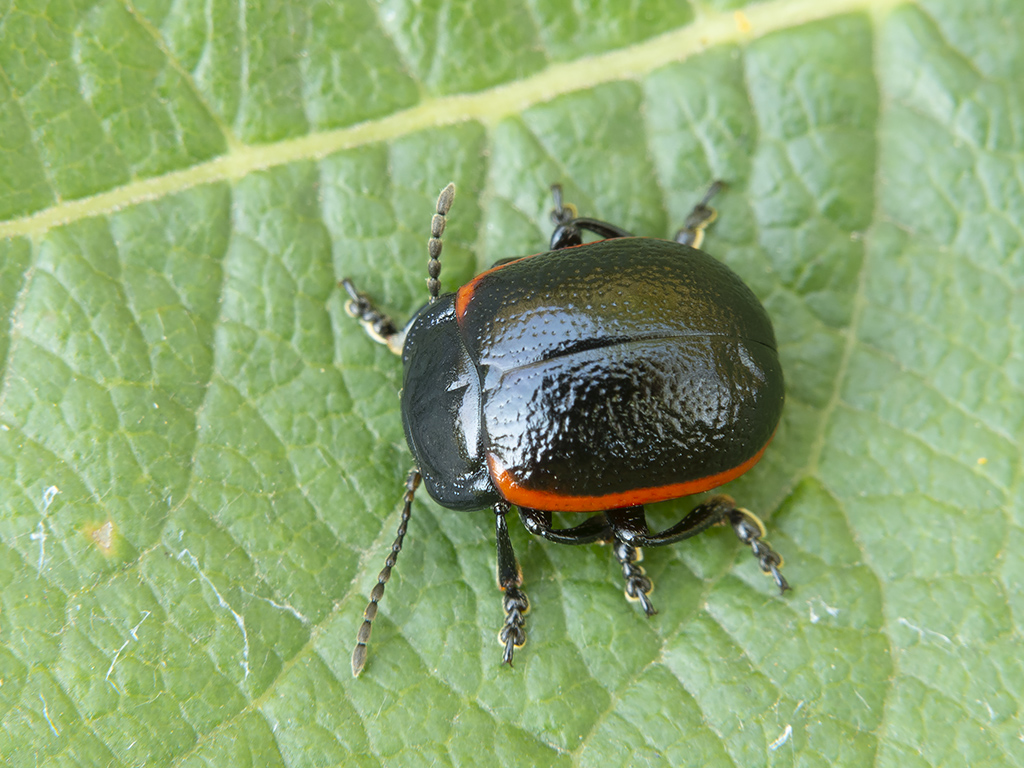Chrysolina_gypsophila: (320, 166, 807, 673)
